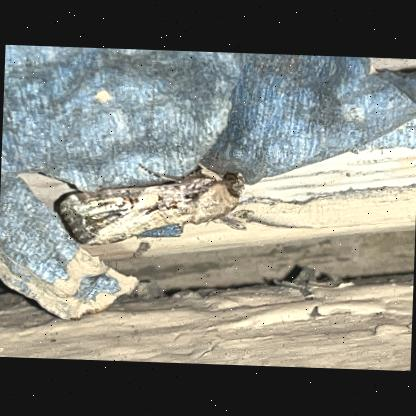Fall Armyworm Moth: (55, 152, 252, 254)
